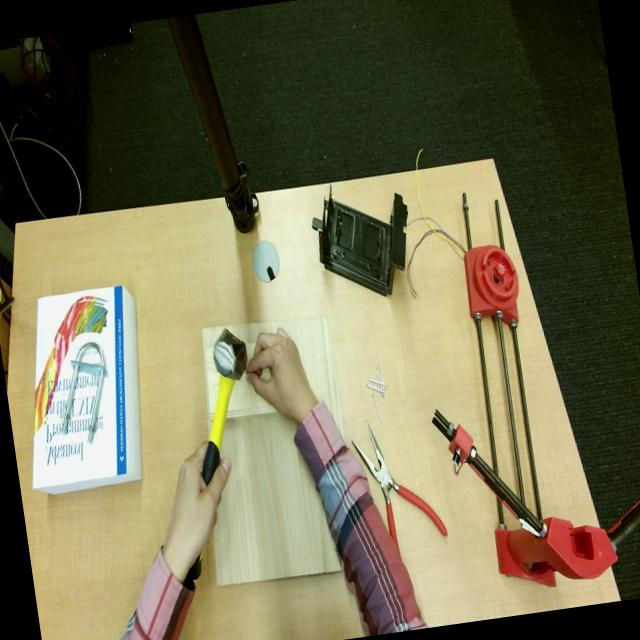hammer: (354, 423, 447, 549), (202, 329, 248, 484)
